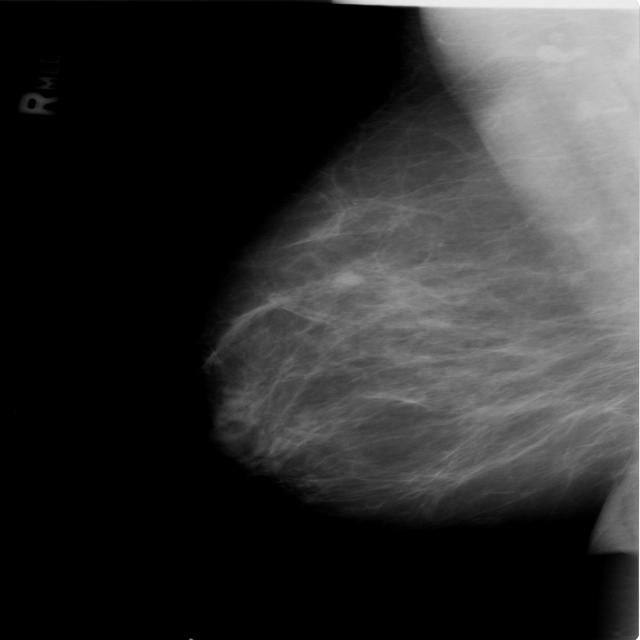normal: (195, 0, 640, 534)
